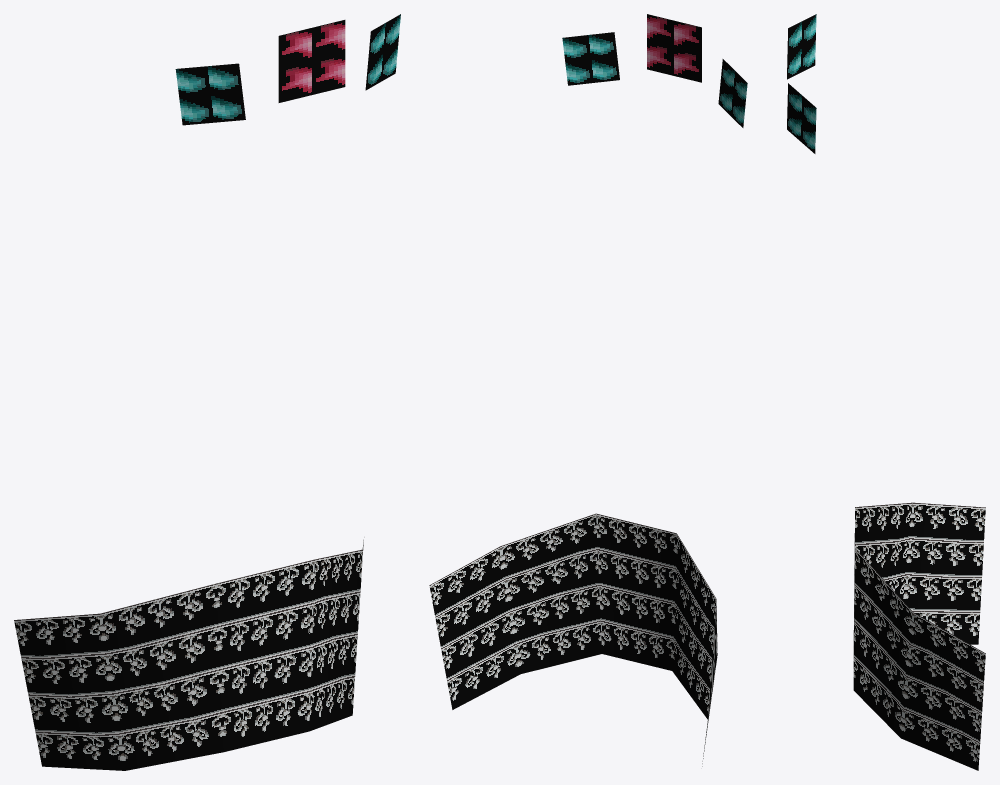
The model's file is body.gltf.
3 renders of one model, left to right at view 1: azimuth 30°, elevation 25°; view 2: azimuth 150°, elevation 25°; view 3: azimuth 270°, elevation 25°, orthographic. The views are drawn at different scales.
Parts seen in each view (by area): view 1: body; view 2: body; view 3: body.
Part boxes in pixels (bbox=[...]): body: bbox=[14, 14, 400, 770]; body: bbox=[429, 14, 747, 766]; body: bbox=[787, 14, 985, 770].
Bounding box in the file's own units: 1.21 × 2.6 × 0.7346.
3 materials, 3 textured.
